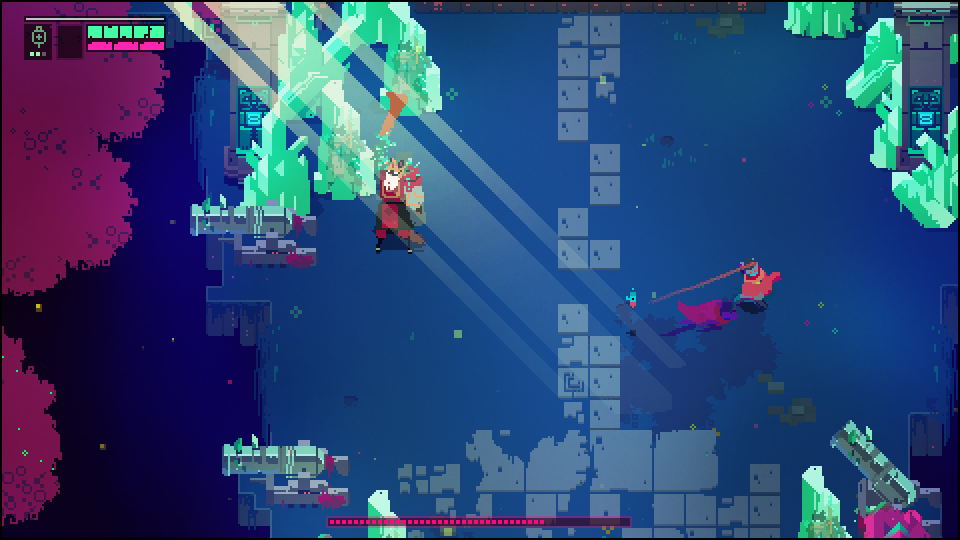hanged_man: (366, 127, 426, 255)
player: (733, 258, 781, 311)
